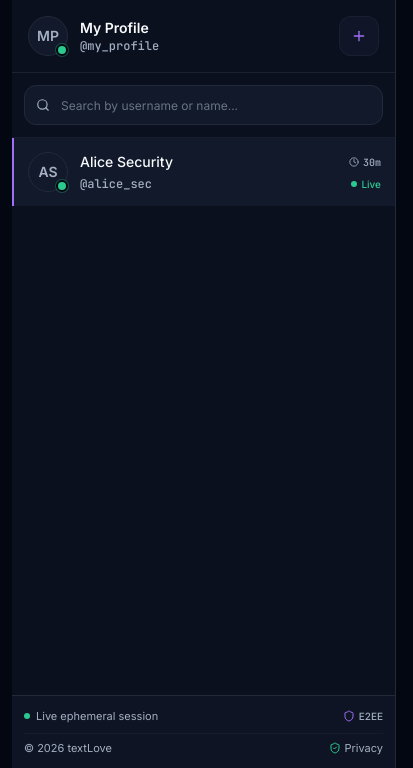
Phase 7: Interface Polish, Accessibility, and Design Verification › provides accessible search input, clear button, and touch-friendly conversation items in Sidebar
# Type query to show clear button
Type "alice" into the field named "search users or conversations" at [204, 105], box [24, 85, 383, 125]
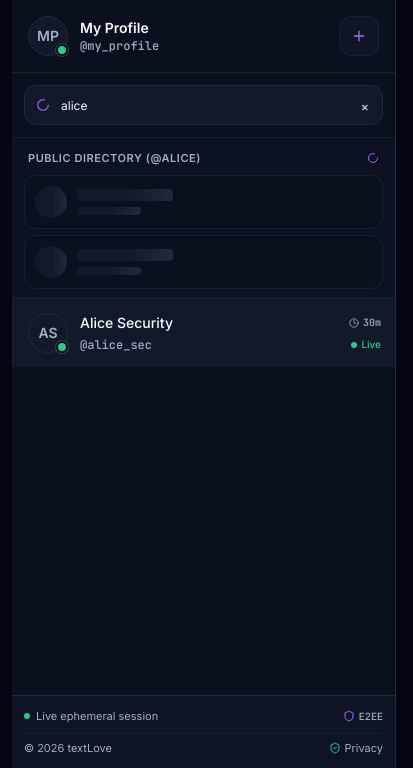
Result: the button named "clear search input" is shown
# Clicking clear resets input
Click the button named "clear search input" at [365, 105], box [357, 89, 373, 121]
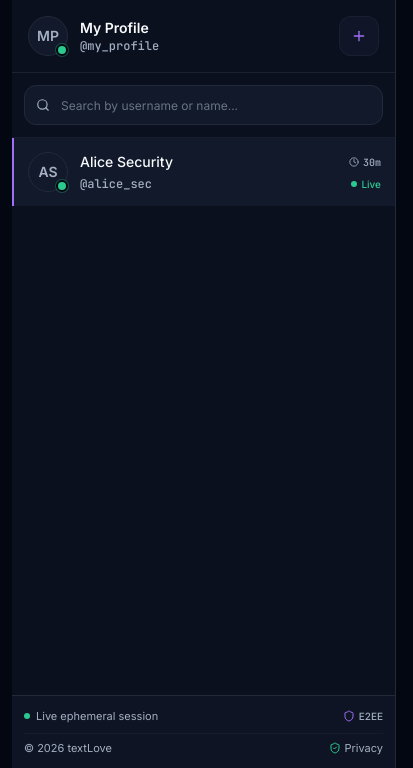
Expected: the button with aria-label "Conversation with Alice Security, Online" is shown, [12, 138, 395, 206]
Result: the field named "search users or conversations" is empty at [24, 85, 383, 125]
